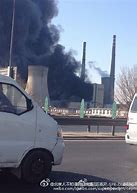smoke: (1, 1, 91, 92)
